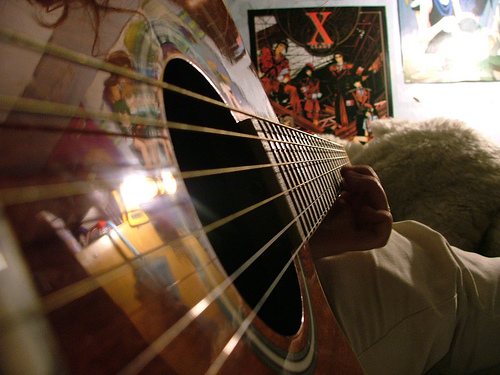guitar: (1, 1, 369, 375)
